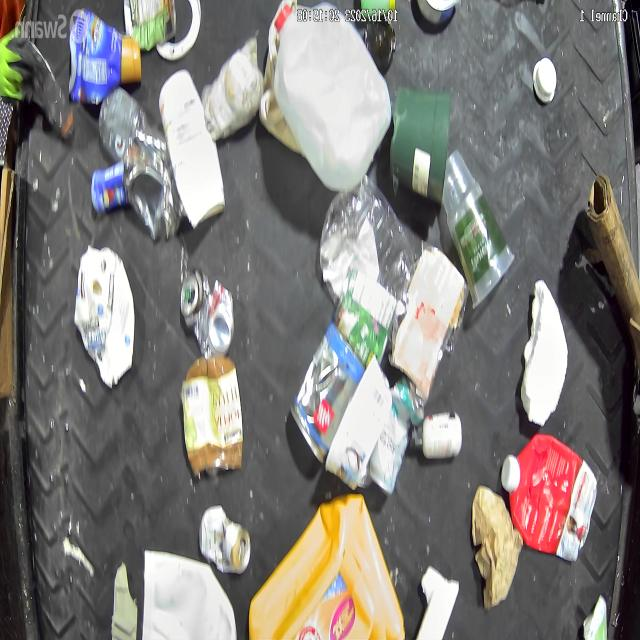can: (288, 320, 364, 470), (365, 374, 425, 496), (180, 266, 237, 362), (337, 285, 390, 373), (199, 498, 255, 578), (119, 0, 183, 63)
milk_jug: (272, 0, 394, 192), (516, 274, 576, 434)
non_white_jug: (247, 484, 403, 640)
